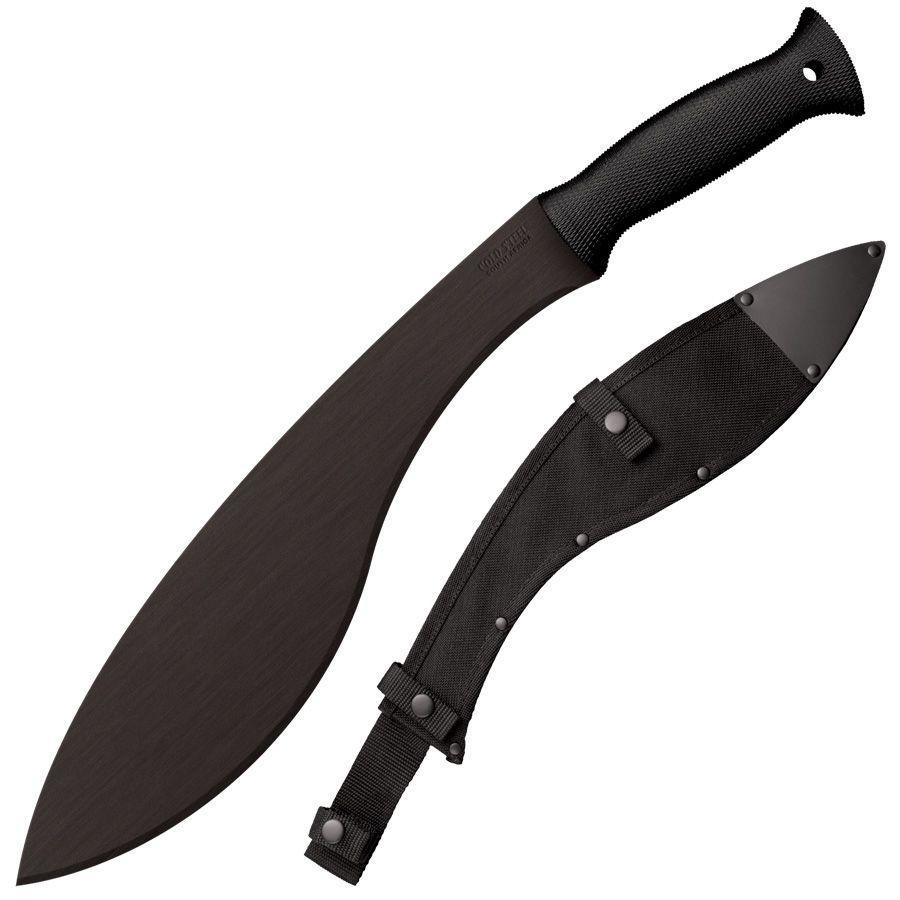facao: (16, 8, 879, 863), (293, 225, 890, 900)
